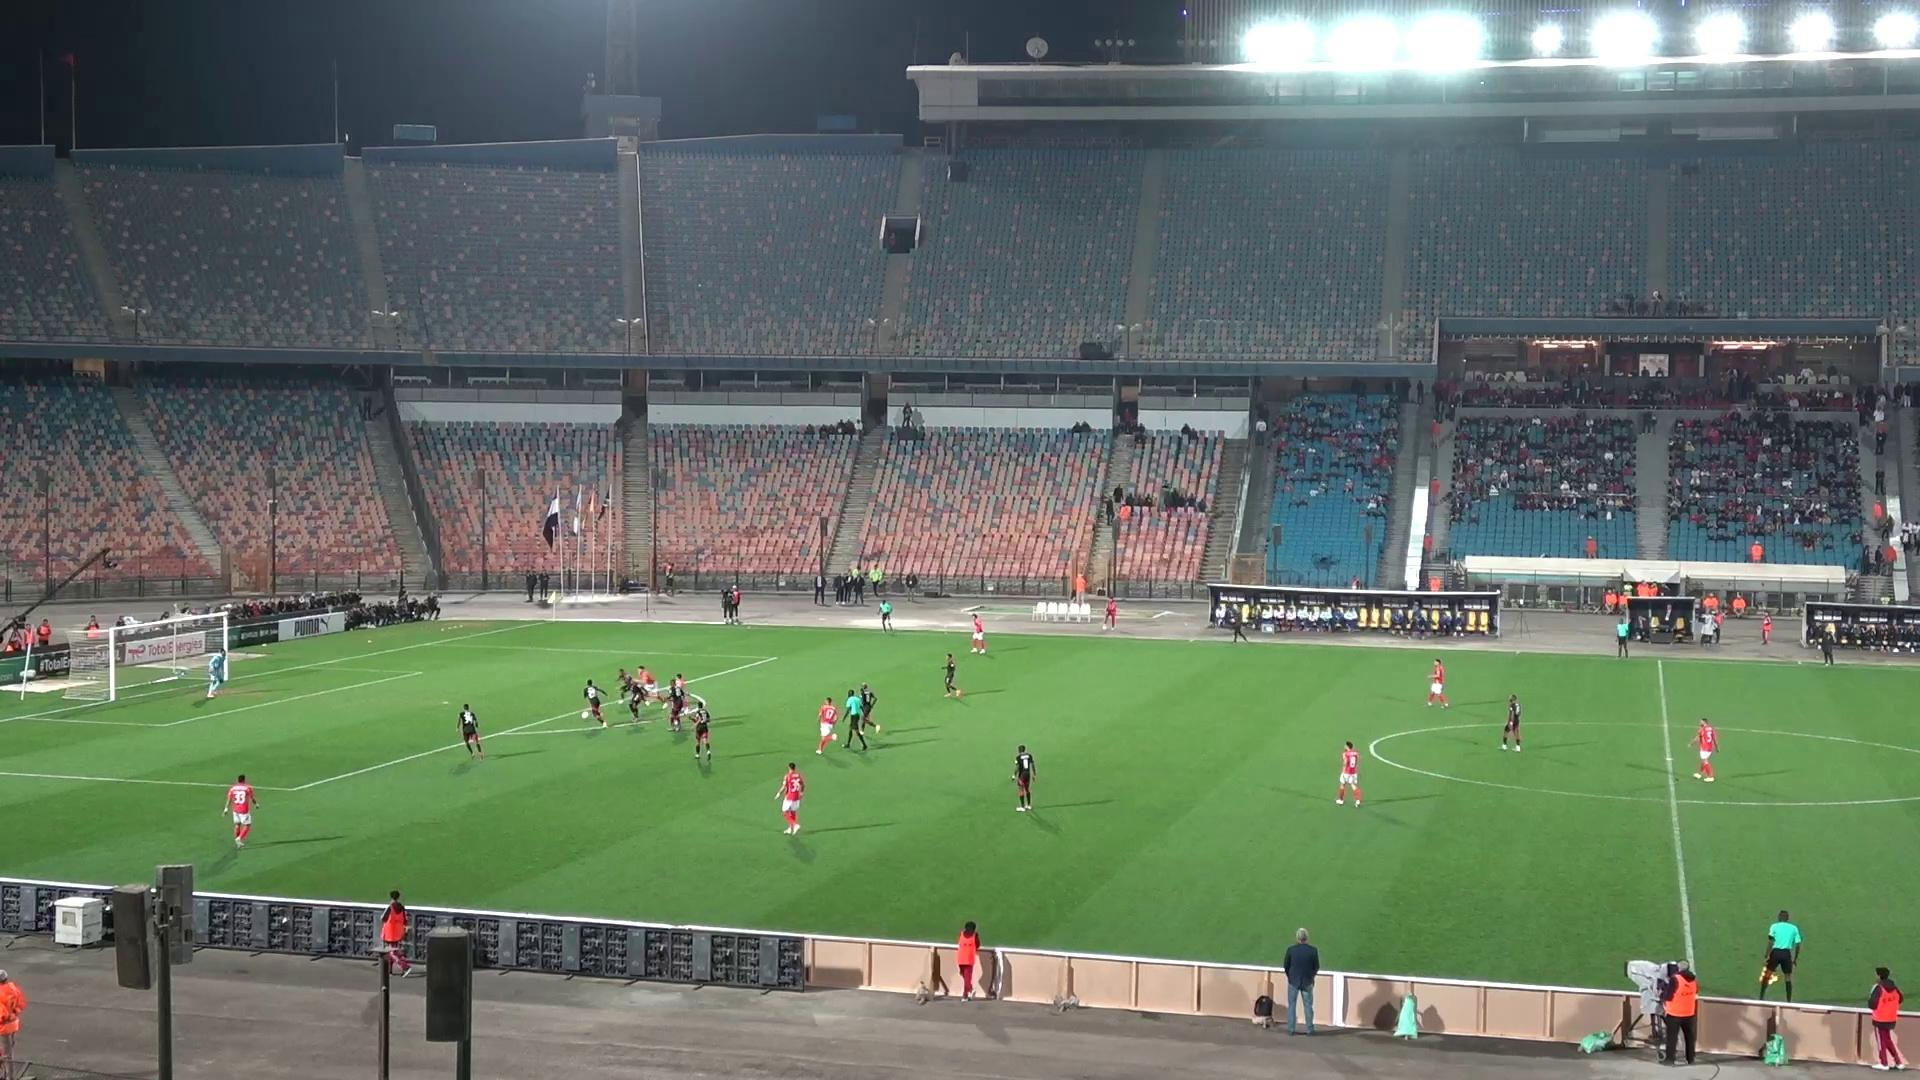GK2: (204, 647, 229, 699)
Refree: (1758, 910, 1803, 1000), (841, 688, 866, 752), (1615, 604, 1635, 658), (876, 599, 893, 632)
Team1: (224, 774, 258, 847), (773, 762, 806, 835), (1691, 717, 1718, 782), (1336, 742, 1364, 807), (814, 698, 841, 756), (684, 707, 713, 761), (1425, 658, 1451, 705), (630, 665, 662, 700), (971, 611, 988, 654)
Team2: (841, 683, 881, 738), (618, 673, 649, 723), (1014, 745, 1036, 810), (456, 704, 483, 758), (666, 673, 690, 731), (1501, 694, 1522, 750), (582, 679, 607, 727), (942, 653, 965, 698)
